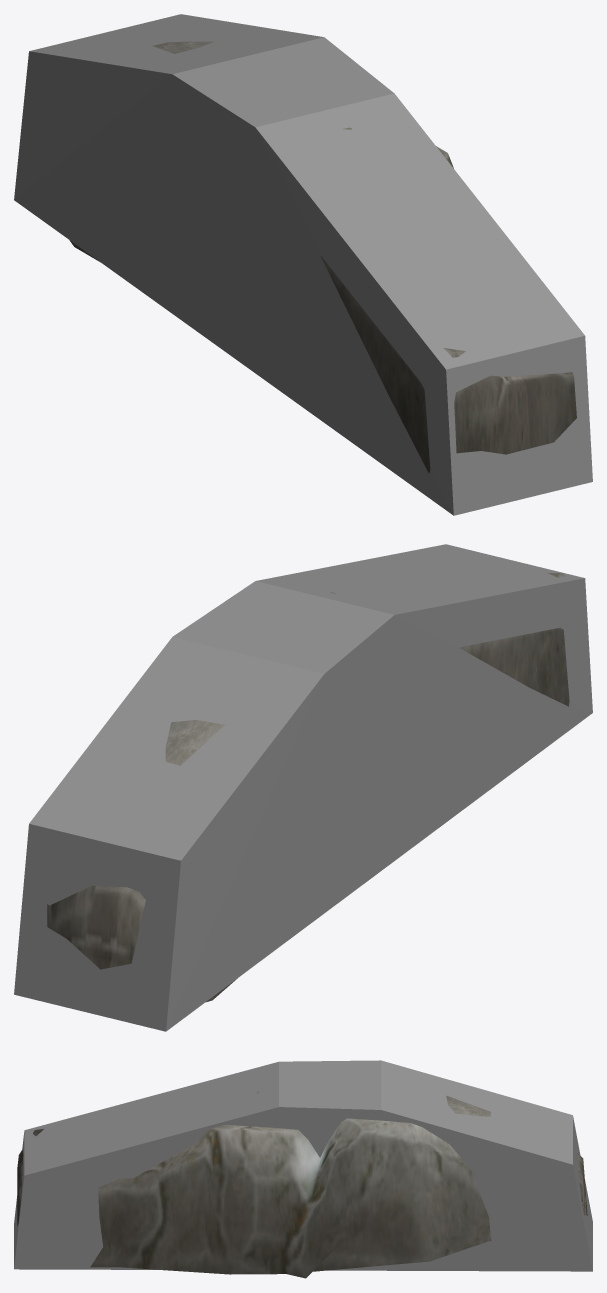
File: Scene_Rock_TianShan_SuiShiTi_6.FBX
The picture shows the model from 3 angles, top to bottom: view 1: azimuth 30°, elevation 25°; view 2: azimuth 150°, elevation 25°; view 3: azimuth 270°, elevation 25°; orthographic projection. The views are drawn at different scales.
Parts seen in each view (by area): view 1: Scene_Rock_TianShan_SuiShiTi_6_Xzm, Scene_Rock_TianShan_SuiShiTi_6; view 2: Scene_Rock_TianShan_SuiShiTi_6_Xzm, Scene_Rock_TianShan_SuiShiTi_6; view 3: Scene_Rock_TianShan_SuiShiTi_6_Xzm, Scene_Rock_TianShan_SuiShiTi_6.
Boxes of the visible parts, x1,y1,x2,y2 form: Scene_Rock_TianShan_SuiShiTi_6_Xzm: (14,14,592,515); Scene_Rock_TianShan_SuiShiTi_6: (69,41,576,473); Scene_Rock_TianShan_SuiShiTi_6_Xzm: (14,544,592,1031); Scene_Rock_TianShan_SuiShiTi_6: (47,572,569,1002); Scene_Rock_TianShan_SuiShiTi_6_Xzm: (14,1060,592,1271); Scene_Rock_TianShan_SuiShiTi_6: (17,1091,587,1278).
Size of the model in its own units: 38.05 by 54.67 by 170.
